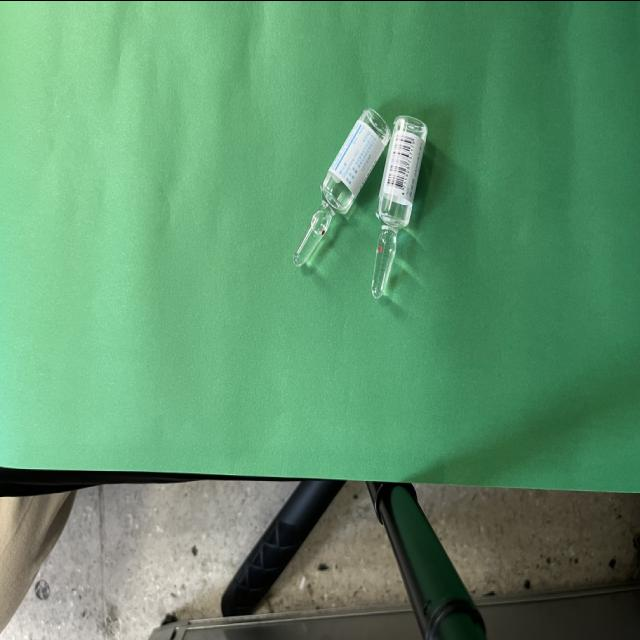Ampoules: (293, 108, 390, 266), (371, 115, 428, 297)
